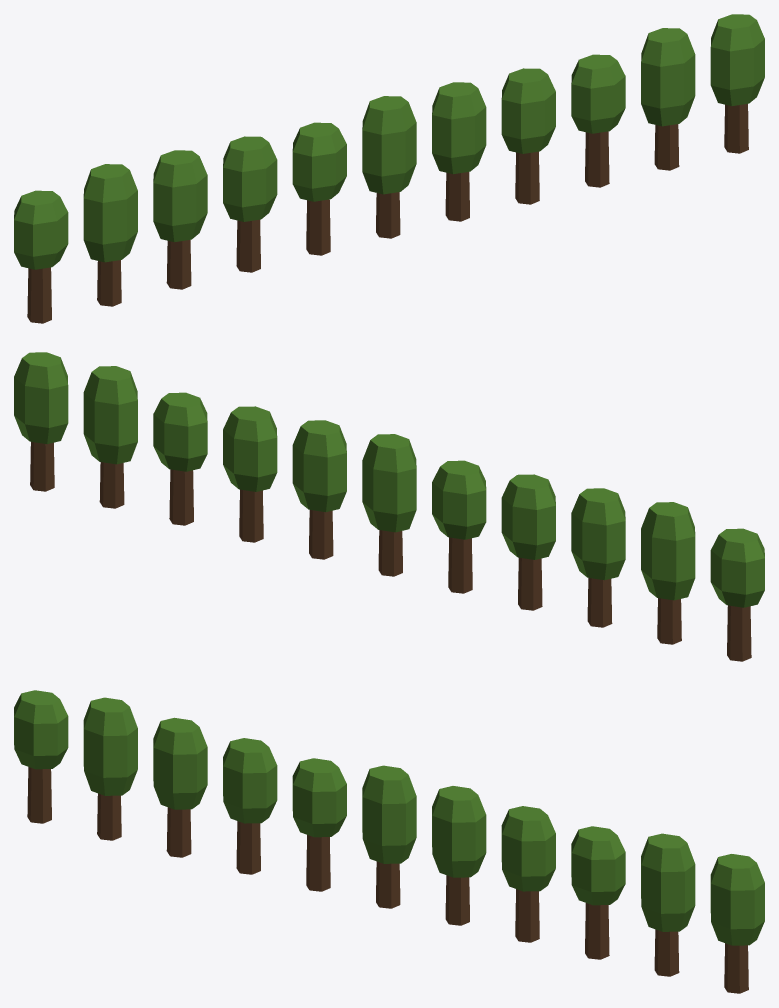
The model's file is elf_wall_broken.glb.
3 renders of one model, top to bottom at view 1: azimuth 30°, elevation 25°; view 2: azimuth 150°, elevation 25°; view 3: azimuth 330°, elevation 25°, orthographic.
Visible parts, largest first — view 1: elf_wall_piece8, elf_wall_piece1, elf_wall_piece7, elf_wall_piece9, elf_wall_piece0, elf_wall_piece13, elf_wall_piece10, elf_wall_piece2, elf_wall_piece3, elf_wall_piece12, elf_wall_piece11; view 2: elf_wall_piece7, elf_wall_piece8, elf_wall_piece10, elf_wall_piece2, elf_wall_piece0, elf_wall_piece9, elf_wall_piece13, elf_wall_piece11, elf_wall_piece1, elf_wall_piece5, elf_wall_piece4, elf_wall_piece12 (+2 smaller); view 3: elf_wall_piece1, elf_wall_piece9, elf_wall_piece8, elf_wall_piece0, elf_wall_piece7, elf_wall_piece10, elf_wall_piece13, elf_wall_piece2, elf_wall_piece3, elf_wall_piece11, elf_wall_piece12.
Boxes of the visible parts, x1=… form: elf_wall_piece8: x1=223, y1=122, x2=346, y2=272; elf_wall_piece1: x1=371, y1=68, x2=555, y2=164; elf_wall_piece7: x1=14, y1=164, x2=121, y2=323; elf_wall_piece9: x1=104, y1=150, x2=207, y2=289; elf_wall_piece0: x1=656, y1=14, x2=764, y2=129; elf_wall_piece13: x1=571, y1=30, x2=677, y2=121; elf_wall_piece10: x1=326, y1=96, x2=416, y2=253; elf_wall_piece2: x1=445, y1=87, x2=609, y2=221; elf_wall_piece3: x1=571, y1=75, x2=748, y2=170; elf_wall_piece12: x1=571, y1=88, x2=614, y2=166; elf_wall_piece11: x1=399, y1=82, x2=485, y2=196; elf_wall_piece7: x1=644, y1=507, x2=764, y2=661; elf_wall_piece8: x1=436, y1=460, x2=555, y2=610; elf_wall_piece10: x1=362, y1=439, x2=462, y2=593; elf_wall_piece2: x1=169, y1=435, x2=333, y2=559; elf_wall_piece0: x1=14, y1=352, x2=123, y2=458; elf_wall_piece9: x1=571, y1=488, x2=687, y2=627; elf_wall_piece13: x1=100, y1=368, x2=207, y2=440; elf_wall_piece11: x1=292, y1=431, x2=373, y2=523; elf_wall_piece1: x1=224, y1=406, x2=416, y2=462; elf_wall_piece5: x1=30, y1=426, x2=181, y2=489; elf_wall_piece4: x1=99, y1=432, x2=251, y2=508; elf_wall_piece12: x1=161, y1=425, x2=228, y2=480; elf_wall_piece1: x1=362, y1=769, x2=554, y2=891; elf_wall_piece9: x1=86, y1=702, x2=207, y2=857; elf_wall_piece8: x1=223, y1=738, x2=342, y2=890; elf_wall_piece0: x1=653, y1=835, x2=764, y2=971; elf_wall_piece7: x1=14, y1=690, x2=130, y2=840; elf_wall_piece10: x1=315, y1=765, x2=416, y2=908; elf_wall_piece13: x1=571, y1=826, x2=670, y2=927; elf_wall_piece2: x1=445, y1=840, x2=609, y2=959; elf_wall_piece3: x1=578, y1=872, x2=739, y2=993; elf_wall_piece11: x1=398, y1=774, x2=486, y2=899; elf_wall_piece12: x1=541, y1=830, x2=608, y2=937.
Bounding box in the file's own units: 6.08 × 1.01 × 0.3315.
